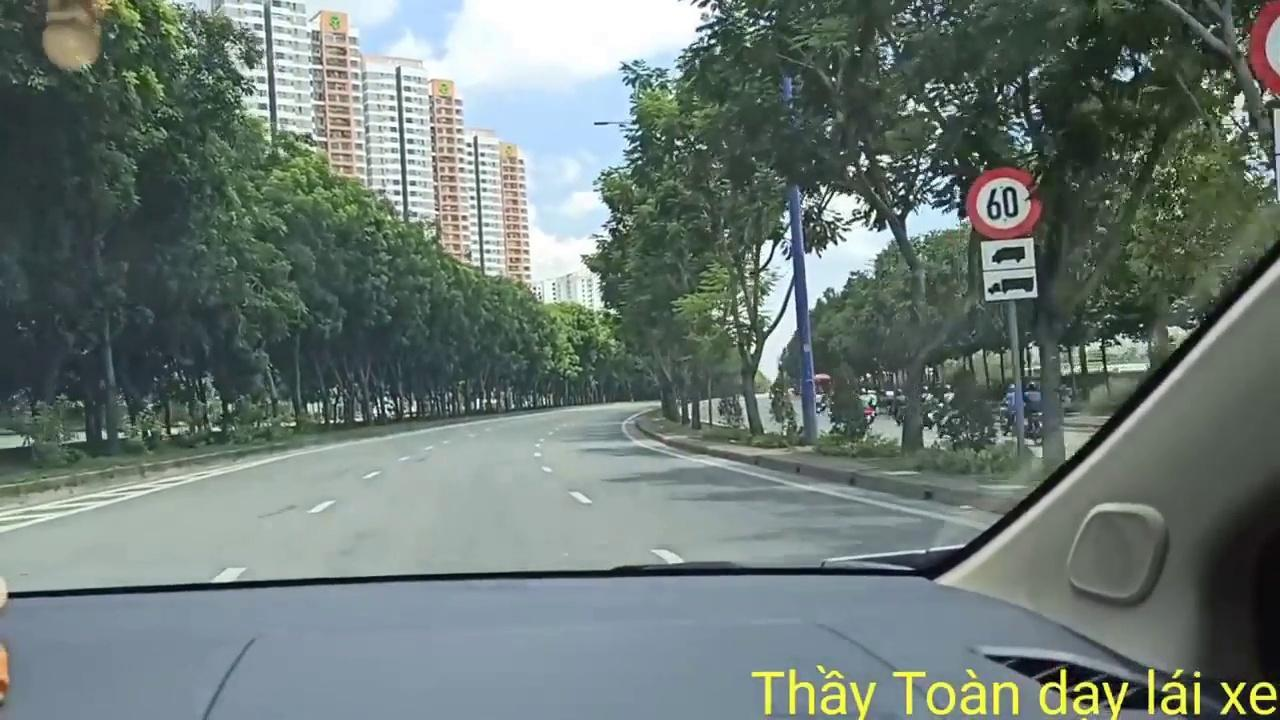Biển phụ: (979, 238, 1040, 301)
GIơi hạn tốc độ 60Km/h: (967, 166, 1040, 237)
